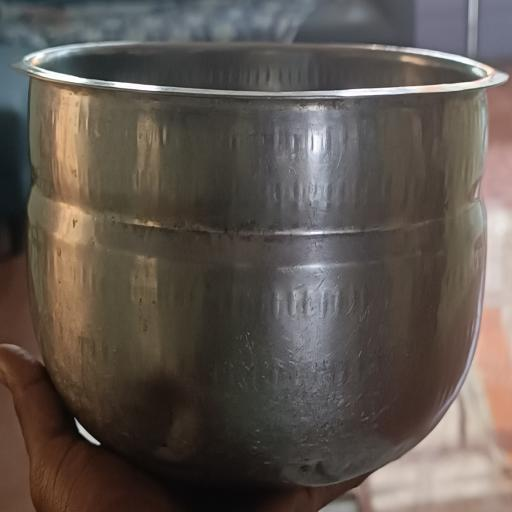vessel: (22, 43, 504, 485)
